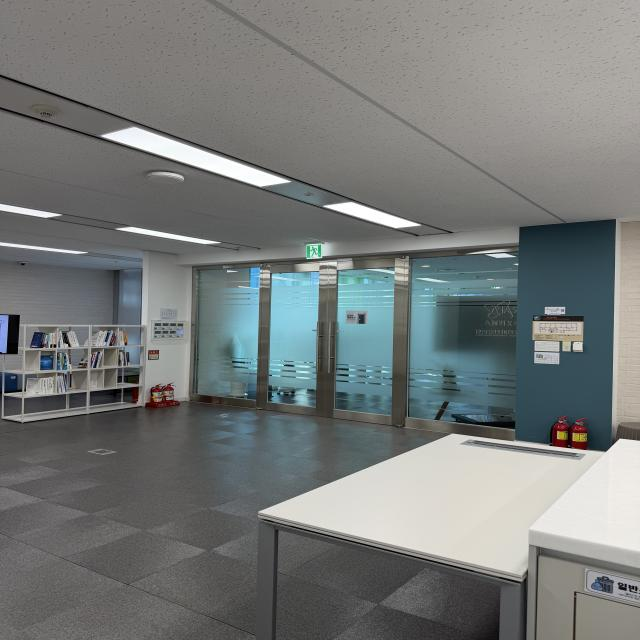front_door: (189, 242, 518, 440)
